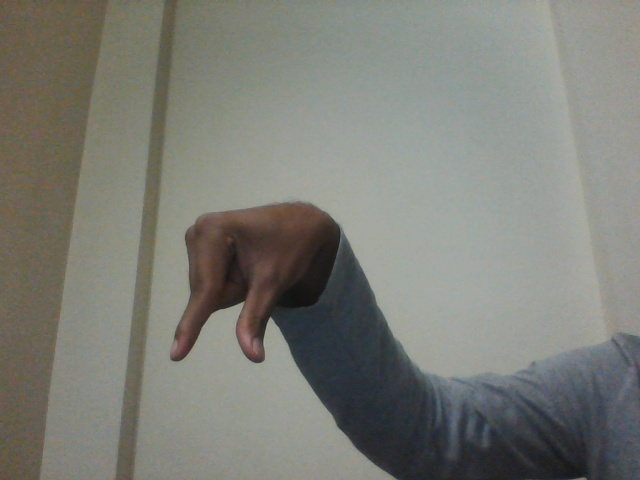q: (155, 195, 318, 369)
